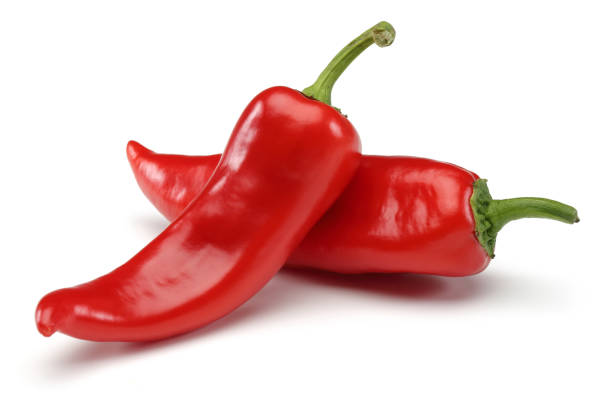Cabai: (30, 8, 589, 384)
